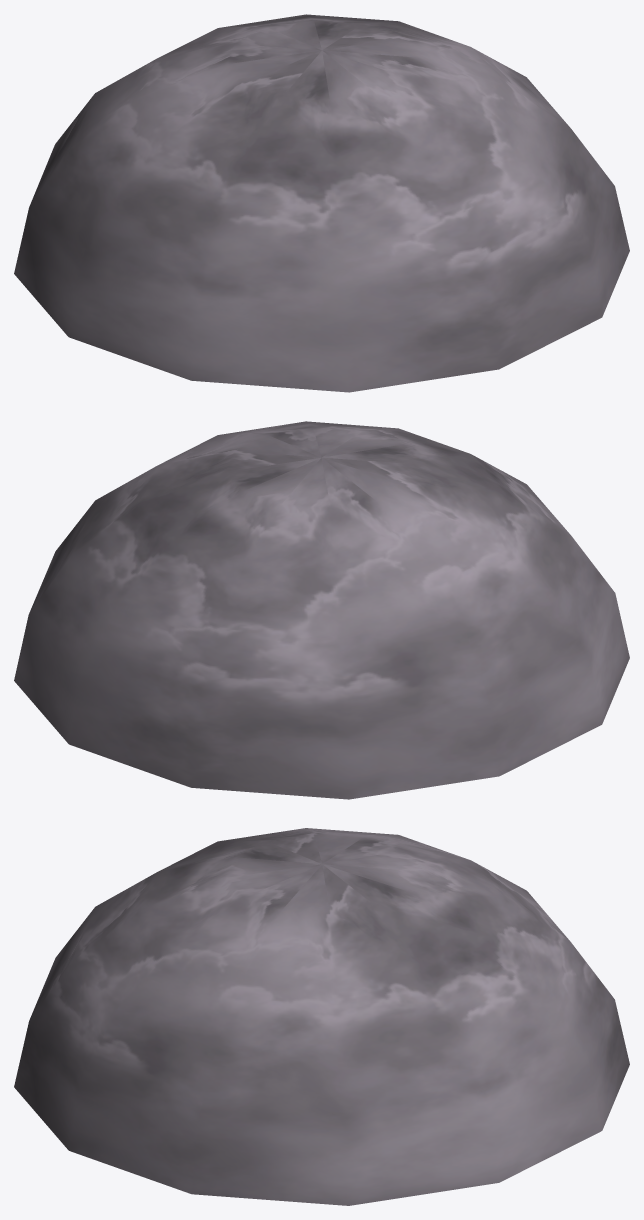
Rendered from env_ato_chopperbase_pre.glb.
The picture shows the model from 3 angles, top to bottom: view 1: azimuth 30°, elevation 25°; view 2: azimuth 150°, elevation 25°; view 3: azimuth 270°, elevation 25°; orthographic projection.
Visible parts, largest first — view 1: skybox_01_mesh; view 2: skybox_01_mesh; view 3: skybox_01_mesh.
Part boxes in pixels (x1,y1,x2,y2): skybox_01_mesh: (14, 14, 629, 392); skybox_01_mesh: (14, 421, 629, 799); skybox_01_mesh: (14, 828, 629, 1205).
Bounding box in the file's own units: 661 × 251 × 661.
16 materials, 16 textured.
